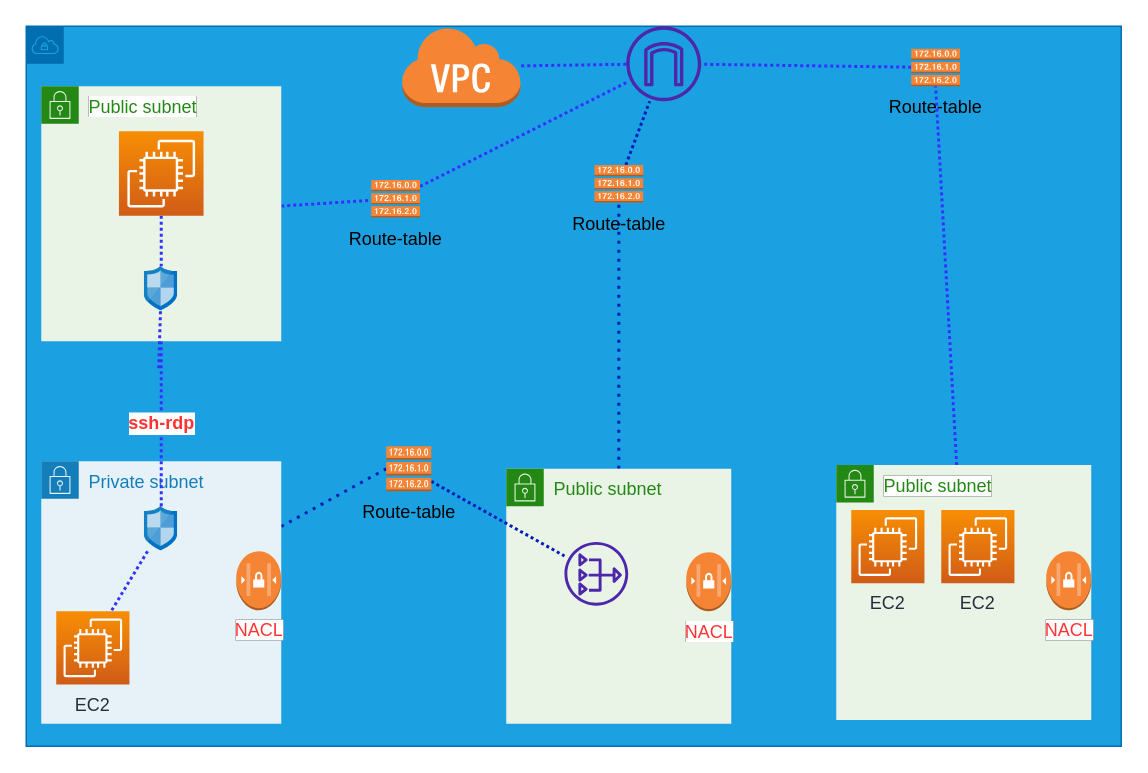
Some shapes in this 1148 by 773 pixel diagram are drawn without their labels. Here are the shapes that lost their labels. From the top down, the centre of each, then its label:
At (663,63): "Internet-gateway".
At (160,173): "Bastion".
At (160,288): "Bastion-NSG".
At (160,528): "EC2-NSG".
At (595,573): "Nat-Gateway".
